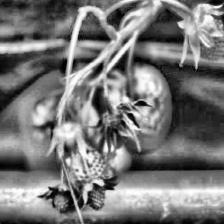Gray Mold: (89, 99, 155, 155)
